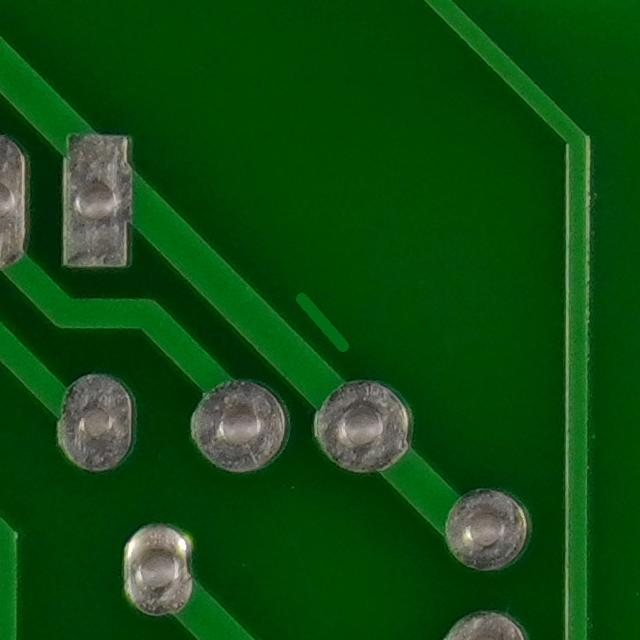spurious_copper: (281, 277, 360, 364)
